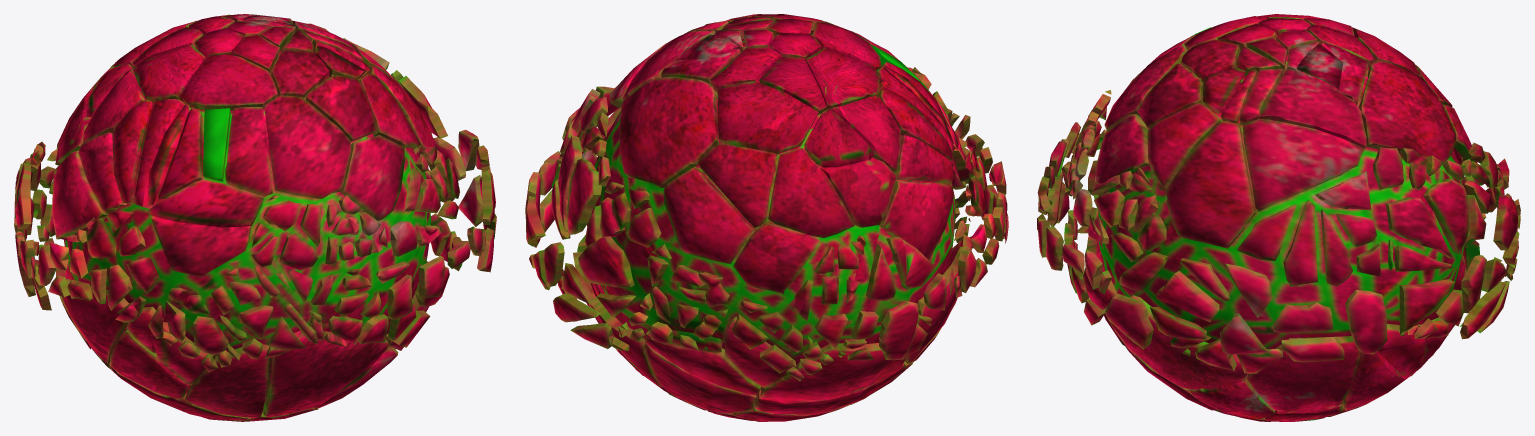
Rendered from broken_planet.fbx.
3 views of the same model, side by side, from view 1: azimuth 30°, elevation 25°; view 2: azimuth 150°, elevation 25°; view 3: azimuth 270°, elevation 25° (orthographic).
Visible parts, largest first — view 1: Сфера_cell.112_Baked; view 2: Сфера_cell.112_Baked; view 3: Сфера_cell.112_Baked.
Part boxes in pixels (x1=…): Сфера_cell.112_Baked: x1=14, y1=14, x2=496, y2=421; Сфера_cell.112_Baked: x1=525, y1=14, x2=1008, y2=421; Сфера_cell.112_Baked: x1=1037, y1=14, x2=1520, y2=421.
Bounding box in the file's own units: 996 × 997 × 844.
1 material, 1 textured.
